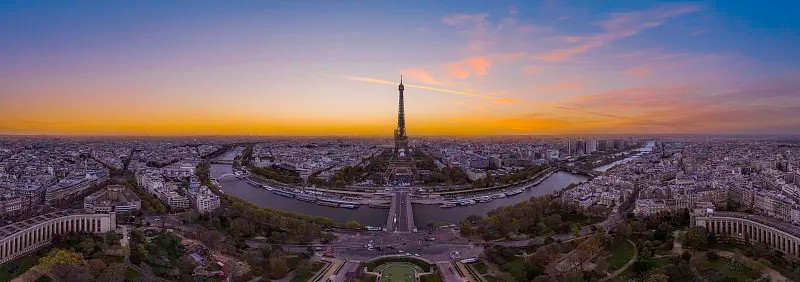Eiffel: (383, 75, 420, 180)
